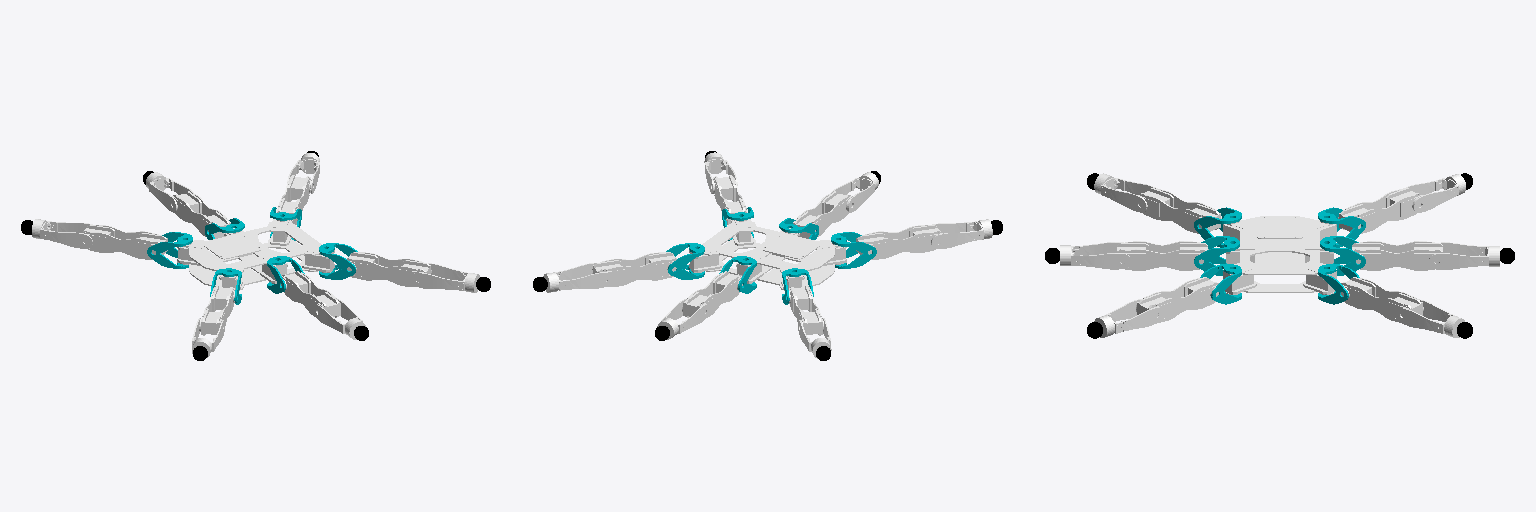
--- Facts derived from the render (not from the file) ---
The picture shows the robot from 3 angles, left to right: view 1: azimuth 30°, elevation 25°; view 2: azimuth 150°, elevation 25°; view 3: azimuth 270°, elevation 25°; orthographic projection.
Model corin with 25 links and 24 joints (18 revolute, 6 fixed), rooted at body, posed all joints at 0.
Visible links, largest first — view 1: body, rf_upperleg, lr_upperleg, rm_upperleg, lm_upperleg, rf_lowerleg, lr_lowerleg, rr_upperleg, lf_upperleg, lr_hipassembly, rf_hipassembly, lm_lowerleg (+3 smaller); view 2: body, lf_upperleg, rr_upperleg, lm_upperleg, rm_upperleg, lf_lowerleg, rr_lowerleg, lr_upperleg, rf_upperleg, rr_hipassembly, rm_lowerleg, lf_hipassembly (+3 smaller); view 3: body, rm_upperleg, lm_upperleg, rf_upperleg, lf_upperleg, lr_upperleg, rr_upperleg, lm_lowerleg, rm_lowerleg, lf_lowerleg, rf_lowerleg, rr_lowerleg (+7 smaller).
Boxes of the visible links, x1,y1,x2,y2 form: body: (177, 219, 334, 290); rf_upperleg: (347, 252, 431, 286); lr_upperleg: (82, 225, 167, 259); rm_upperleg: (281, 271, 340, 317); lm_upperleg: (172, 191, 230, 238); rf_lowerleg: (411, 263, 479, 292); lr_lowerleg: (32, 219, 92, 248); rr_upperleg: (199, 285, 234, 335); lf_upperleg: (276, 175, 311, 224); lr_hipassembly: (147, 232, 192, 268); rf_hipassembly: (319, 243, 357, 279); lm_lowerleg: (146, 172, 194, 212); body: (689, 219, 846, 290); lf_upperleg: (592, 252, 676, 286); rr_upperleg: (856, 225, 942, 259); lm_upperleg: (682, 271, 742, 317); rm_upperleg: (793, 191, 852, 238); lf_lowerleg: (543, 263, 612, 292); rr_lowerleg: (931, 219, 992, 248); lr_upperleg: (789, 285, 823, 335); rf_upperleg: (713, 175, 747, 224); rr_hipassembly: (831, 232, 876, 268); rm_lowerleg: (832, 172, 878, 212); lf_hipassembly: (666, 243, 704, 279); body: (1223, 216, 1336, 294); rm_upperleg: (1116, 241, 1208, 270); lm_upperleg: (1352, 241, 1442, 270); rf_upperleg: (1136, 277, 1218, 322); lf_upperleg: (1341, 277, 1423, 322); lr_upperleg: (1338, 188, 1422, 233); rr_upperleg: (1138, 188, 1221, 233); lm_lowerleg: (1429, 242, 1499, 269); rm_lowerleg: (1060, 242, 1130, 269); lf_lowerleg: (1396, 299, 1464, 337); rf_lowerleg: (1094, 299, 1163, 337); rr_lowerleg: (1094, 173, 1157, 212).
Bounding box of the posed robot: 0.704 × 0.9 × 0.068 m (x, y, z).
19 mesh visuals loaded from 4 distinct referenced files (3 binary STL, 1 OBJ).

The robot description file, URDF, robot "corin":
<?xml version="1.0"?>
<robot xmlns:xacro="http://www.ros.org/wiki/xacro" name="corin">

	<!-- START OF BODY SECTION!!!!-->
	<link name="body">
		<inertial>
			<origin xyz="0.0 0.0 0.0"/>
			<mass value="1.58"/>
			<inertia ixx="0.00491" iyy="0.007610" izz="0.01123"
					 ixy="0.0" ixz="0.0" iyz="0.0"/> <!-- values above given to 3 sf, 10 sf values available in common.xacro -->
		</inertial>
		<visual>
			<geometry>
				<mesh filename="./meshes/Body2.obj" scale="1 1 1"/> <!--these used to be referenced via ros package, i gave the full file name and moved the files to the drake ws to avoid ROS issues while i figure all this out. Consider coming back and using ROS later to tidy this up -->
			</geometry>
			<material name="white">
    			<color rgba="1.0 1.0 1.0 1.0"/>
 			</material> 
		</visual>
		<collision>
			<geometry>
				<mesh filename="./meshes/Body_collision2.obj" scale="1 1 1"/>
			</geometry>
			<material name="colli">
    			<color rgba="1 0.424 0.039 0.7"/>
			</material>
		</collision>
	</link>
	<!--END OF BODY SECTION!!!! -->



	<!--START OF LEFT FRONT LEG SECTION!!!!-->
	<!-- Joints -->
	<!-- Coxa joint -->
	<joint name="lf_q1_joint" type="revolute">
		<origin xyz="0.115 0.09 0" rpy="0 0 0.873"/>
		<parent link="body"/>
		<child  link="lf_hipassembly"/>
		<axis xyz="0 0 1"/>
		
		<limit effort="2.85" velocity="5.23" lower="-1.00" upper="1.00"/>
		<dynamics damping="0.15" friction="0" />
		<!-- <safety_controller k_position="100" k_velocity="100"
						   soft_lower_limit="${-7*PI/18}" soft_upper_limit="${5*PI/36}" /> -->
	</joint>
	<!-- Upper leg joint -->
	<joint name="lf_q2_joint" type="revolute">
		<origin xyz="0.06 0 0" rpy="1.571 0 0"/>
		<parent link="lf_hipassembly"/>
		<child  link="lf_upperleg"/>
		<axis xyz="0 0 1"/>
		<limit effort="2.85" velocity="5.23" lower="-2.22" upper="2.22"/>
		<dynamics damping="0.15" friction="0" />
		<!-- <safety_controller k_position="100" k_velocity="100"
						   soft_lower_limit="${-(1+reflect_front)*5*PI/36-(1-reflect_front)*7*PI/36}"
						   soft_upper_limit="${(1-reflect_front)*5*PI/36+(1+reflect_front)*7*PI/36}" /> -->
	</joint>
	<!-- Lower leg joint -->
	<joint name="lf_q3_joint" type="revolute">
		<origin xyz="0.15 0 0" rpy="0 0 0"/>
		<parent link="lf_upperleg"/>
		<child  link="lf_lowerleg"/>
		<axis xyz="0 0 1"/>
		<limit effort="2.85" velocity="5.23" lower="-2.79" upper="2.79"/>
		<dynamics damping="0.15" friction="0" />
		<!-- <safety_controller k_position="100" k_velocity="100"
						   soft_lower_limit="${-(1+reflect_front)*7*PI/18+(1-reflect_front)*PI/18}"
						   soft_upper_limit="${(1-reflect_front)*7*PI/18-(1+reflect_front)*PI/18}" /> -->

	</joint>
	<!-- Foot joint -->
	<joint name="lf_foot_joint" type="fixed">
		<origin xyz="0.134 0 0" rpy="0 0 0"/>
		<parent link="lf_lowerleg"/>
		<child  link="LF_FOOT"/>
	</joint>


	<!-- Links -->
	<!-- Hip assembly link -->
	<link name="lf_hipassembly">
		<visual>
			<origin rpy="0 0 0" xyz="0 0 0"/>
		      <geometry>
		        <mesh filename="./meshes/Coxa.STL" scale="1 1 1"/>
		      </geometry>
	      	<material name="2-turquoise">
    			<color rgba="0 0.807 0.850 1.0" />
  			</material>
	    </visual>

	    <collision>
	    	<origin rpy="0 0 0" xyz="0 0 0"/>
		    <geometry>
		      <mesh filename="./meshes/Coxa_collision2.obj" scale="1 1 1"/>
		    </geometry>
	      	<material name="black">
    			<color rgba="0.0 0.0 0.0 1.0"/>
  			</material>
	    </collision>

	    <inertial>
	    	<origin xyz="0.02471 0 0"/>
	      	<mass value="0.0406"/>
	      	<inertia ixx="0.000038" ixy="0.0" ixz="0.0" iyy="0.000038" iyz="0.0" izz="0.000040"/>
	    </inertial>
	  </link>

	<!-- Upper leg link -->
	<link name="lf_upperleg">
		<visual>
	      	<geometry>
	        	<mesh filename="./meshes/Femur.STL" scale="1 1 1"/>
	      	</geometry>
	      	<origin xyz="0 0 0" rpy="0 0 0"/>
	      	<material name="white">
    			<color rgba="1.0 1.0 1.0 1.0"/>
 			</material>
	    </visual>

	    <collision>
	      	<geometry>
	        	<box size= "0.15 0.04 0.04"/>
	      	</geometry>
	      	<origin xyz="0.075 0 0" rpy="0 0 0"/>
	      	<material name="colli">
    			<color rgba="1 0.424 0.039 0.7"/>
			</material>
	    </collision>

	    <inertial>
	      	<mass value="0.35"/>
	      	<inertia ixx="0.000014" ixy="0" ixz="0" iyy="0.000047" iyz="0" izz="0.000051"/>
	      	<origin xyz="0.075 0 0"/>
	    </inertial>
	</link>

	<!-- Lower leg link -->
	<link name="lf_lowerleg">
		<visual>
	      	<geometry>
	      		<mesh filename="./meshes/Tibia.STL" scale="1 1 1"/>
	      	</geometry>
	      	<origin xyz="0 0 0" rpy="1.571 0 0"/>
	      	<material name="white">
    			<color rgba="1.0 1.0 1.0 1.0"/>
 			</material>
	    </visual>

	    <collision>
	      	<geometry>
						<mesh filename="./meshes/Tibia_collision2.obj" scale="1 1 1"/>
	        	<!-- <box size= "${tibia_cl} ${tibia_d} ${tibia_w}"/> -->
	      	</geometry>
	      	<origin xyz="0.0 0 0" rpy="1.571 0 0"/>
	      	<material name="colli">
    			<color rgba="1 0.424 0.039 0.7"/>
			</material>
	    </collision>

	    <inertial>
	      	<mass value="0.076"/>
	      	<inertia ixx="0.000025" ixy="0" ixz="0" iyy="0.000105" iyz="0" izz="0.000117"/>
	      	<origin xyz="0.0887 0 0"/>
	    </inertial>
	</link>

	<!-- Foot link -->
	<link name="LF_FOOT">
		<visual>
	      	<geometry>
	        	<sphere radius="0.016"/>
	      	</geometry>
	      	<origin xyz="0 0 0" rpy="0 0 0"/>
	      	<material name="black">
    			<color rgba="0.0 0.0 0.0 1.0"/>
			</material>
	    </visual>

	    <collision>
	      	<geometry>
	        	<sphere radius="0.016"/>
	      	</geometry>
	      	<origin xyz="0 0 0" rpy="0 0 0"/>
	      	<material name="colli">
    			<color rgba="1 0.424 0.039 0.7"/>
			</material>
	    </collision>

	    <inertial>
	      	<mass value="0.040"/>
	      	<inertia ixx="0.000004" ixy="0" ixz="0" iyy="0.000004" iyz="0" izz="0.000004" />
	      	<origin xyz="0 0 0"/>
	    </inertial>
	</link>
	<!--END OF LEFT FRONT LEG SECTION!!!!-->



	<!--START OF LEFT MIDDLE LEG SECTION!!!!-->
	<!-- Joints -->
	<!-- Coxa joint -->
	<joint name="lm_q1_joint" type="revolute">
		<origin xyz="0 0.09 0" rpy="0 0 1.571"/>
		<parent link="body"/>
		<child  link="lm_hipassembly"/>
		<axis xyz="0 0 1"/>
		
		<limit effort="2.85" velocity="5.23" lower="-0.84" upper="0.84"/>
		<dynamics damping="0.15" friction="0" />
		<!-- <safety_controller k_position="100" k_velocity="100"
						   soft_lower_limit="${-7*PI/18}" soft_upper_limit="${5*PI/36}" /> -->
	</joint>
	<!-- Upper leg joint -->
	<joint name="lm_q2_joint" type="revolute">
		<origin xyz="0.06 0 0" rpy="1.571 0 0"/>
		<parent link="lm_hipassembly"/>
		<child  link="lm_upperleg"/>
		<axis xyz="0 0 1"/>
		<limit effort="2.85" velocity="5.23" lower="-2.22" upper="2.22"/>
		<dynamics damping="0.15" friction="0" />
		<!-- <safety_controller k_position="100" k_velocity="100"
						   soft_lower_limit="${-(1+reflect_front)*5*PI/36-(1-reflect_front)*7*PI/36}"
						   soft_upper_limit="${(1-reflect_front)*5*PI/36+(1+reflect_front)*7*PI/36}" /> -->
	</joint>
	<!-- Lower leg joint -->
	<joint name="lm_q3_joint" type="revolute">
		<origin xyz="0.15 0 0" rpy="0 0 0"/>
		<parent link="lm_upperleg"/>
		<child  link="lm_lowerleg"/>
		<axis xyz="0 0 1"/>
		<limit effort="2.85" velocity="5.23" lower="-2.79" upper="2.79"/>
		<dynamics damping="0.15" friction="0" />
		<!-- <safety_controller k_position="100" k_velocity="100"
						   soft_lower_limit="${-(1+reflect_front)*7*PI/18+(1-reflect_front)*PI/18}"
						   soft_upper_limit="${(1-reflect_front)*7*PI/18-(1+reflect_front)*PI/18}" /> -->

	</joint>
	<!-- Foot joint -->
	<joint name="lm_foot_joint" type="fixed">
		<origin xyz="0.134 0 0" rpy="0 0 0"/>
		<parent link="lm_lowerleg"/>
		<child  link="LM_FOOT"/>
	</joint>


	<!-- Links -->
	<!-- Hip assembly link -->
	<link name="lm_hipassembly">
		<visual>
			<origin rpy="0 0 0" xyz="0 0 0"/>
		      <geometry>
		        <mesh filename="./meshes/Coxa.STL" scale="1 1 1"/>
		      </geometry>
	      	<material name="2-turquoise">
    			<color rgba="0 0.807 0.850 1.0" />
  			</material>
	    </visual>

	    <collision>
	    	<origin rpy="0 0 0" xyz="0 0 0"/>
		    <geometry>
		      <mesh filename="./meshes/Coxa_collision2.obj" scale="1 1 1"/>
		    </geometry>
	      	<material name="black">
    			<color rgba="0.0 0.0 0.0 1.0"/>
  			</material>
	    </collision>

	    <inertial>
	    	<origin xyz="0.02471 0 0"/>
	      	<mass value="0.0406"/>
	      	<inertia ixx="0.000038" ixy="0.0" ixz="0.0" iyy="0.000038" iyz="0.0" izz="0.000040"/>
	    </inertial>
	  </link>

	<!-- Upper leg link -->
	<link name="lm_upperleg">
		<visual>
	      	<geometry>
	        	<mesh filename="./meshes/Femur.STL" scale="1 1 1"/>
	      	</geometry>
	      	<origin xyz="0 0 0" rpy="0 0 0"/>
	      	<material name="white">
    			<color rgba="1.0 1.0 1.0 1.0"/>
 			</material>
	    </visual>

	    <collision>
	      	<geometry>
	        	<box size= "0.15 0.04 0.04"/>
	      	</geometry>
	      	<origin xyz="0.075 0 0" rpy="0 0 0"/>
	      	<material name="colli">
    			<color rgba="1 0.424 0.039 0.7"/>
			</material>
	    </collision>

	    <inertial>
	      	<mass value="0.35"/>
	      	<inertia ixx="0.000014" ixy="0" ixz="0" iyy="0.000047" iyz="0" izz="0.000051"/>
	      	<origin xyz="0.075 0 0"/>
	    </inertial>
	</link>

	<!-- Lower leg link -->
	<link name="lm_lowerleg">
		<visual>
	      	<geometry>
	      		<mesh filename="./meshes/Tibia.STL" scale="1 1 1"/>
	      	</geometry>
	      	<origin xyz="0 0 0" rpy="1.571 0 0"/>
	      	<material name="white">
    			<color rgba="1.0 1.0 1.0 1.0"/>
 			</material>
	    </visual>

	    <collision>
	      	<geometry>
						<mesh filename="./meshes/Tibia_collision2.obj" scale="1 1 1"/>
	        	<!-- <box size= "${tibia_cl} ${tibia_d} ${tibia_w}"/> -->
	      	</geometry>
	      	<origin xyz="0.0 0 0" rpy="1.571 0 0"/>
	      	<material name="colli">
    			<color rgba="1 0.424 0.039 0.7"/>
			</material>
	    </collision>

	    <inertial>
	      	<mass value="0.076"/>
	      	<inertia ixx="0.000025" ixy="0" ixz="0" iyy="0.000105" iyz="0" izz="0.000117"/>
	      	<origin xyz="0.0887 0 0"/>
	    </inertial>
	</link>

	<!-- Foot link -->
	<link name="LM_FOOT">
		<visual>
	      	<geometry>
	        	<sphere radius="0.016"/>
	      	</geometry>
	      	<origin xyz="0 0 0" rpy="0 0 0"/>
	      	<material name="black">
    			<color rgba="0.0 0.0 0.0 1.0"/>
			</material>
	    </visual>

	    <collision>
	      	<geometry>
	        	<sphere radius="0.016"/>
	      	</geometry>
	      	<origin xyz="0 0 0" rpy="0 0 0"/>
	      	<material name="colli">
    			<color rgba="1 0.424 0.039 0.7"/>
			</material>
	    </collision>

	    <inertial>
	      	<mass value="0.040"/>
	      	<inertia ixx="0.000004" ixy="0" ixz="0" iyy="0.000004" iyz="0" izz="0.000004" />
	      	<origin xyz="0 0 0"/>
	    </inertial>
	</link>
	<!--END OF LEFT MIDDLE LEG SECTION!!!!-->



	<!--START OF LEFT REAR LEG SECTION!!!!-->
	<!-- Joints -->
	<!-- Coxa joint -->
	<joint name="lr_q1_joint" type="revolute">
		<origin xyz="-0.115 0.09 0" rpy="0 0 2.269"/>
		<parent link="body"/>
		<child  link="lr_hipassembly"/>
		<axis xyz="0 0 1"/>
		
		<limit effort="2.85" velocity="5.23" lower="-1.00" upper="1.00"/>
		<dynamics damping="0.15" friction="0" />
		<!-- <safety_controller k_position="100" k_velocity="100"
						   soft_lower_limit="${-7*PI/18}" soft_upper_limit="${5*PI/36}" /> -->
	</joint>
	<!-- Upper leg joint -->
	<joint name="lr_q2_joint" type="revolute">
		<origin xyz="0.06 0 0" rpy="1.571 0 0"/>
		<parent link="lr_hipassembly"/>
		<child  link="lr_upperleg"/>
		<axis xyz="0 0 1"/>
		<limit effort="2.85" velocity="5.23" lower="-2.22" upper="2.22"/>
		<dynamics damping="0.15" friction="0" />
		<!-- <safety_controller k_position="100" k_velocity="100"
						   soft_lower_limit="${-(1+reflect_front)*5*PI/36-(1-reflect_front)*7*PI/36}"
						   soft_upper_limit="${(1-reflect_front)*5*PI/36+(1+reflect_front)*7*PI/36}" /> -->
	</joint>
	<!-- Lower leg joint -->
	<joint name="lr_q3_joint" type="revolute">
		<origin xyz="0.15 0 0" rpy="0 0 0"/>
		<parent link="lr_upperleg"/>
		<child  link="lr_lowerleg"/>
		<axis xyz="0 0 1"/>
		<limit effort="2.85" velocity="5.23" lower="-2.79" upper="2.79"/>
		<dynamics damping="0.15" friction="0" />
		<!-- <safety_controller k_position="100" k_velocity="100"
						   soft_lower_limit="${-(1+reflect_front)*7*PI/18+(1-reflect_front)*PI/18}"
						   soft_upper_limit="${(1-reflect_front)*7*PI/18-(1+reflect_front)*PI/18}" /> -->

	</joint>
	<!-- Foot joint -->
	<joint name="lr_foot_joint" type="fixed">
		<origin xyz="0.134 0 0" rpy="0 0 0"/>
		<parent link="lr_lowerleg"/>
		<child  link="LH_FOOT"/>
	</joint>


	<!-- Links -->
	<!-- Hip assembly link -->
	<link name="lr_hipassembly">
		<visual>
			<origin rpy="0 0 0" xyz="0 0 0"/>
		      <geometry>
		        <mesh filename="./meshes/Coxa.STL" scale="1 1 1"/>
		      </geometry>
	      	<material name="2-turquoise">
    			<color rgba="0 0.807 0.850 1.0" />
  			</material>
	    </visual>

	    <collision>
	    	<origin rpy="0 0 0" xyz="0 0 0"/>
		    <geometry>
		      <mesh filename="./meshes/Coxa_collision2.obj" scale="1 1 1"/>
		    </geometry>
	      	<material name="black">
    			<color rgba="0.0 0.0 0.0 1.0"/>
  			</material>
	    </collision>

	    <inertial>
	    	<origin xyz="0.02471 0 0"/>
	      	<mass value="0.0406"/>
	      	<inertia ixx="0.000038" ixy="0.0" ixz="0.0" iyy="0.000038" iyz="0.0" izz="0.000040"/>
	    </inertial>
	  </link>

	<!-- Upper leg link -->
	<link name="lr_upperleg">
		<visual>
	      	<geometry>
	        	<mesh filename="./meshes/Femur.STL" scale="1 1 1"/>
	      	</geometry>
	      	<origin xyz="0 0 0" rpy="0 0 0"/>
	      	<material name="white">
    			<color rgba="1.0 1.0 1.0 1.0"/>
 			</material>
	    </visual>

	    <collision>
	      	<geometry>
	        	<box size= "0.15 0.04 0.04"/>
	      	</geometry>
	      	<origin xyz="0.075 0 0" rpy="0 0 0"/>
	      	<material name="colli">
    			<color rgba="1 0.424 0.039 0.7"/>
			</material>
	    </collision>

	    <inertial>
	      	<mass value="0.35"/>
	      	<inertia ixx="0.000014" ixy="0" ixz="0" iyy="0.000047" iyz="0" izz="0.000051"/>
	      	<origin xyz="0.075 0 0"/>
	    </inertial>
	</link>

	<!-- Lower leg link -->
	<link name="lr_lowerleg">
		<visual>
	      	<geometry>
	      		<mesh filename="./meshes/Tibia.STL" scale="1 1 1"/>
	      	</geometry>
	      	<origin xyz="0 0 0" rpy="1.571 0 0"/>
	      	<material name="white">
    			<color rgba="1.0 1.0 1.0 1.0"/>
 			</material>
	    </visual>

	    <collision>
	      	<geometry>
						<mesh filename="./meshes/Tibia_collision2.obj" scale="1 1 1"/>
	        	<!-- <box size= "${tibia_cl} ${tibia_d} ${tibia_w}"/> -->
	      	</geometry>
	      	<origin xyz="0.0 0 0" rpy="1.571 0 0"/>
	      	<material name="colli">
    			<color rgba="1 0.424 0.039 0.7"/>
			</material>
	    </collision>

	    <inertial>
	      	<mass value="0.076"/>
	      	<inertia ixx="0.000025" ixy="0" ixz="0" iyy="0.000105" iyz="0" izz="0.000117"/>
	      	<origin xyz="0.0887 0 0"/>
	    </inertial>
	</link>

	<!-- Foot link -->
	<link name="LH_FOOT">
		<visual>
	      	<geometry>
	        	<sphere radius="0.016"/>
	      	</geometry>
	      	<origin xyz="0 0 0" rpy="0 0 0"/>
	      	<material name="black">
    			<color rgba="0.0 0.0 0.0 1.0"/>
			</material>
	    </visual>

	    <collision>
	      	<geometry>
	        	<sphere radius="0.016"/>
	      	</geometry>
	      	<origin xyz="0 0 0" rpy="0 0 0"/>
	      	<material name="colli">
    			<color rgba="1 0.424 0.039 0.7"/>
			</material>
	    </collision>

	    <inertial>
	      	<mass value="0.040"/>
	      	<inertia ixx="0.000004" ixy="0" ixz="0" iyy="0.000004" iyz="0" izz="0.000004" />
	      	<origin xyz="0 0 0"/>
	    </inertial>
	</link>
	<!--END OF LEFT REAR LEG SECTION!!!!-->




	<!--START OF RIGHT FRONT LEG SECTION!!!!-->
	<!-- Joints -->
	<!-- Coxa joint -->
	<joint name="rf_q1_joint" type="revolute">
		<origin xyz="0.115 -0.09 0" rpy="0 0 -0.873"/>
		<parent link="body"/>
		<child  link="rf_hipassembly"/>
		<axis xyz="0 0 1"/>
		
		<limit effort="2.85" velocity="5.23" lower="-1.00" upper="1.00"/>
		<dynamics damping="0.15" friction="0" />
		<!-- <safety_controller k_position="100" k_velocity="100"
						   soft_lower_limit="${-7*PI/18}" soft_upper_limit="${5*PI/36}" /> -->
	</joint>
	<!-- Upper leg joint -->
	<joint name="rf_q2_joint" type="revolute">
		<origin xyz="0.06 0 0" rpy="1.571 0 0"/>
		<parent link="rf_hipassembly"/>
		<child  link="rf_upperleg"/>
		<axis xyz="0 0 1"/>
		<limit effort="2.85" velocity="5.23" lower="-2.22" upper="2.22"/>
		<dynamics damping="0.15" friction="0" />
		<!-- <safety_controller k_position="100" k_velocity="100"
						   soft_lower_limit="${-(1+reflect_front)*5*PI/36-(1-reflect_front)*7*PI/36}"
						   soft_upper_limit="${(1-reflect_front)*5*PI/36+(1+reflect_front)*7*PI/36}" /> -->
	</joint>
	<!-- Lower leg joint -->
	<joint name="rf_q3_joint" type="revolute">
		<origin xyz="0.15 0 0" rpy="0 0 0"/>
		<parent link="rf_upperleg"/>
		<child  link="rf_lowerleg"/>
		<axis xyz="0 0 1"/>
		<limit effort="2.85" velocity="5.23" lower="-2.79" upper="2.79"/>
		<dynamics damping="0.15" friction="0" />
		<!-- <safety_controller k_position="100" k_velocity="100"
						   soft_lower_limit="${-(1+reflect_front)*7*PI/18+(1-reflect_front)*PI/18}"
						   soft_upper_limit="${(1-reflect_front)*7*PI/18-(1+reflect_front)*PI/18}" /> -->

	</joint>
	<!-- Foot joint -->
	<joint name="rf_foot_joint" type="fixed">
		<origin xyz="0.134 0 0" rpy="0 0 0"/>
		<parent link="rf_lowerleg"/>
		<child  link="RF_FOOT"/>
	</joint>


	<!-- Links -->
	<!-- Hip assembly link -->
	<link name="rf_hipassembly">
		<visual>
			<origin rpy="0 0 0" xyz="0 0 0"/>
		      <geometry>
		        <mesh filename="./meshes/Coxa.STL" scale="1 1 1"/>
		      </geometry>
	      	<material name="2-turquoise">
    			<color rgba="0 0.807 0.850 1.0" />
  			</material>
	    </visual>

	    <collision>
	    	<origin rpy="0 0 0" xyz="0 0 0"/>
		    <geometry>
		      <mesh filename="./meshes/Coxa_collision2.obj" scale="1 1 1"/>
		    </geometry>
	      	<material name="black">
    			<color rgba="0.0 0.0 0.0 1.0"/>
  			</material>
	    </collision>

	    <inertial>
	    	<origin xyz="0.02471 0 0"/>
	      	<mass value="0.0406"/>
	      	<inertia ixx="0.000038" ixy="0.0" ixz="0.0" iyy="0.000038" iyz="0.0" izz="0.000040"/>
	    </inertial>
	  </link>

	<!-- Upper leg link -->
	<link name="rf_upperleg">
		<visual>
	      	<geometry>
	        	<mesh filename="./meshes/Femur.STL" scale="1 1 1"/>
	      	</geometry>
	      	<origin xyz="0 0 0" rpy="0 0 0"/>
	      	<material name="white">
    			<color rgba="1.0 1.0 1.0 1.0"/>
 			</material>
	    </visual>

	    <collision>
	      	<geometry>
	        	<box size= "0.15 0.04 0.04"/>
	      	</geometry>
	      	<origin xyz="0.075 0 0" rpy="0 0 0"/>
	      	<material name="colli">
    			<color rgba="1 0.424 0.039 0.7"/>
			</material>
	    </collision>

	    <inertial>
	      	<mass value="0.35"/>
	      	<inertia ixx="0.000014" ixy="0" ixz="0" iyy="0.000047" iyz="0" izz="0.000051"/>
	      	<origin xyz="0.075 0 0"/>
	    </inertial>
	</link>

	<!-- Lower leg link -->
	<link name="rf_lowerleg">
		<visual>
	      	<geometry>
	      		<mesh filename="./meshes/Tibia.STL" scale="1 1 1"/>
	      	</geometry>
	      	<origin xyz="0 0 0" rpy="1.571 0 0"/>
	      	<material name="white">
    			<color rgba="1.0 1.0 1.0 1.0"/>
 			</material>
	    </visual>

	    <collision>
	      	<geometry>
						<mesh filename="./meshes/Tibia_collision2.obj" scale="1 1 1"/>
	        	<!-- <box size= "${tibia_cl} ${tibia_d} ${tibia_w}"/> -->
	      	</geometry>
	      	<origin xyz="0.0 0 0" rpy="1.571 0 0"/>
	      	<material name="colli">
    			<color rgba="1 0.424 0.039 0.7"/>
			</material>
	    </collision>

	    <inertial>
	      	<mass value="0.076"/>
	      	<inertia ixx="0.000025" ixy="0" ixz="0" iyy="0.000105" iyz="0" izz="0.000117"/>
	      	<origin xyz="0.0887 0 0"/>
	    </inertial>
	</link>

	<!-- Foot link -->
	<link name="RF_FOOT">
		<visual>
	      	<geometry>
	        	<sphere radius="0.016"/>
	      	</geometry>
	      	<origin xyz="0 0 0" rpy="0 0 0"/>
	      	<material name="black">
    			<color rgba="0.0 0.0 0.0 1.0"/>
			</material>
	    </visual>

	    <collision>
	      	<geometry>
	        	<sphere radius="0.016"/>
	      	</geometry>
	      	<origin xyz="0 0 0" rpy="0 0 0"/>
	      	<material name="colli">
    			<color rgba="1 0.424 0.039 0.7"/>
			</material>
	    </collision>

	    <inertial>
	      	<mass value="0.040"/>
	      	<inertia ixx="0.000004" ixy="0" ixz="0" iyy="0.000004" iyz="0" izz="0.000004" />
	      	<origin xyz="0 0 0"/>
	    </inertial>
	</link>
	<!--END OF RIGHT FRONT LEG SECTION!!!!-->


	<!--START OF RIGHT MIDDLE LEG SECTION!!!!-->
	<!-- Joints -->
	<!-- Coxa joint -->
	<joint name="rm_q1_joint" type="revolute">
		<origin xyz="0 -0.09 0" rpy="0 0 -1.571"/> <!--PUT ORIGIN OF LEG HERE-->
		<parent link="body"/>
		<child  link="rm_hipassembly"/>
		<axis xyz="0 0 1"/>
		
		<limit effort="2.85" velocity="5.23" lower="-0.84" upper="0.84"/>
		<dynamics damping="0.15" friction="0" />
		<!-- <safety_controller k_position="100" k_velocity="100"
						   soft_lower_limit="${-7*PI/18}" soft_upper_limit="${5*PI/36}" /> -->
	</joint>
	<!-- Upper leg joint -->
	<joint name="rm_q2_joint" type="revolute">
		<origin xyz="0.06 0 0" rpy="1.571 0 0"/>
		<parent link="rm_hipassembly"/>
		<child  link="rm_upperleg"/>
		<axis xyz="0 0 1"/>
		<limit effort="2.85" velocity="5.23" lower="-2.22" upper="2.22"/>
		<dynamics damping="0.15" friction="0" />
		<!-- <safety_controller k_position="100" k_velocity="100"
						   soft_lower_limit="${-(1+reflect_front)*5*PI/36-(1-reflect_front)*7*PI/36}"
						   soft_upper_limit="${(1-reflect_front)*5*PI/36+(1+reflect_front)*7*PI/36}" /> -->
	</joint>
	<!-- Lower leg joint -->
	<joint name="rm_q3_joint" type="revolute">
		<origin xyz="0.15 0 0" rpy="0 0 0"/>
		<parent link="rm_upperleg"/>
		<child  link="rm_lowerleg"/>
		<axis xyz="0 0 1"/>
		<limit effort="2.85" velocity="5.23" lower="-2.79" upper="2.79"/>
		<dynamics damping="0.15" friction="0" />
		<!-- <safety_controller k_position="100" k_velocity="100"
						   soft_lower_limit="${-(1+reflect_front)*7*PI/18+(1-reflect_front)*PI/18}"
						   soft_upper_limit="${(1-reflect_front)*7*PI/18-(1+reflect_front)*PI/18}" /> -->

	</joint>
	<!-- Foot joint -->
	<joint name="rm_foot_joint" type="fixed">
		<origin xyz="0.134 0 0" rpy="0 0 0"/>
		<parent link="rm_lowerleg"/>
		<child  link="RM_FOOT"/>
	</joint>


	<!-- Links -->
	<!-- Hip assembly link -->
	<link name="rm_hipassembly">
		<visual>
			<origin rpy="0 0 0" xyz="0 0 0"/>
		      <geometry>
		        <mesh filename="./meshes/Coxa.STL" scale="1 1 1"/>
		      </geometry>
	      	<material name="2-turquoise">
    			<color rgba="0 0.807 0.850 1.0" />
  			</material>
	    </visual>

	    <collision>
	    	<origin rpy="0 0 0" xyz="0 0 0"/>
		    <geometry>
		      <mesh filename="./meshes/Coxa_collision2.obj" scale="1 1 1"/>
		    </geometry>
	      	<material name="black">
    			<color rgba="0.0 0.0 0.0 1.0"/>
  			</material>
	    </collision>

	    <inertial>
	    	<origin xyz="0.02471 0 0"/>
	      	<mass value="0.0406"/>
	      	<inertia ixx="0.000038" ixy="0.0" ixz="0.0" iyy="0.000038" iyz="0.0" izz="0.000040"/>
	    </inertial>
	  </link>

	<!-- Upper leg link -->
	<link name="rm_upperleg">
		<visual>
	      	<geometry>
	        	<mesh filename="./meshes/Femur.STL" scale="1 1 1"/>
	      	</geometry>
	      	<origin xyz="0 0 0" rpy="0 0 0"/>
	      	<material name="white">
    			<color rgba="1.0 1.0 1.0 1.0"/>
 			</material>
	    </visual>

	    <collision>
	      	<geometry>
	        	<box size= "0.15 0.04 0.04"/>
	      	</geometry>
	      	<origin xyz="0.075 0 0" rpy="0 0 0"/>
	      	<material name="colli">
    			<color rgba="1 0.424 0.039 0.7"/>
			</material>
	    </collision>

	    <inertial>
	      	<mass value="0.35"/>
	      	<inertia ixx="0.000014" ixy="0" ixz="0" iyy="0.000047" iyz="0" izz="0.000051"/>
	      	<origin xyz="0.075 0 0"/>
	    </inertial>
	</link>

	<!-- Lower leg link -->
	<link name="rm_lowerleg">
		<visual>
	      	<geometry>
	      		<mesh filename="./meshes/Tibia.STL" scale="1 1 1"/>
	      	</geometry>
	      	<origin xyz="0 0 0" rpy="1.571 0 0"/>
	      	<material name="white">
    			<color rgba="1.0 1.0 1.0 1.0"/>
 			</material>
	    </visual>

	    <collision>
	      	<geometry>
						<mesh filename="./meshes/Tibia_collision2.obj" scale="1 1 1"/>
	        	<!-- <box size= "${tibia_cl} ${tibia_d} ${tibia_w}"/> -->
	      	</geometry>
	      	<origin xyz="0.0 0 0" rpy="1.571 0 0"/>
	      	<material name="colli">
    			<color rgba="1 0.424 0.039 0.7"/>
			</material>
	    </collision>

	    <inertial>
	      	<mass value="0.076"/>
	      	<inertia ixx="0.000025" ixy="0" ixz="0" iyy="0.000105" iyz="0" izz="0.000117"/>
	      	<origin xyz="0.0887 0 0"/>
	    </inertial>
	</link>

	<!-- Foot link -->
	<link name="RM_FOOT">
		<visual>
	      	<geometry>
	        	<sphere radius="0.016"/>
	      	</geometry>
	      	<origin xyz="0 0 0" rpy="0 0 0"/>
	      	<material name="black">
    			<color rgba="0.0 0.0 0.0 1.0"/>
			</material>
	    </visual>

	    <collision>
	      	<geometry>
	        	<sphere radius="0.016"/>
	      	</geometry>
	      	<origin xyz="0 0 0" rpy="0 0 0"/>
	      	<material name="colli">
    			<color rgba="1 0.424 0.039 0.7"/>
			</material>
	    </collision>

	    <inertial>
	      	<mass value="0.040"/>
	      	<inertia ixx="0.000004" ixy="0" ixz="0" iyy="0.000004" iyz="0" izz="0.000004" />
	      	<origin xyz="0 0 0"/>
	    </inertial>
	</link>
	<!--END OF LEFT FRONT LEG SECTION!!!!-->


	<!--START OF RIGHT REAR LEG SECTION!!!!-->
	<!-- Joints -->
	<!-- Coxa joint -->
	<joint name="rr_q1_joint" type="revolute">
		<origin xyz="-0.115 -0.09 0" rpy="0 0 -2.269"/>
		<parent link="body"/>
		<child  link="rr_hipassembly"/>
		<axis xyz="0 0 1"/>
		
		<limit effort="2.85" velocity="5.23" lower="-1.00" upper="1.00"/>
		<dynamics damping="0.15" friction="0" />
		<!-- <safety_controller k_position="100" k_velocity="100"
						   soft_lower_limit="${-7*PI/18}" soft_upper_limit="${5*PI/36}" /> -->
	</joint>
	<!-- Upper leg joint -->
	<joint name="rr_q2_joint" type="revolute">
		<origin xyz="0.06 0 0" rpy="1.571 0 0"/>
		<parent link="rr_hipassembly"/>
		<child  link="rr_upperleg"/>
		<axis xyz="0 0 1"/>
		<limit effort="2.85" velocity="5.23" lower="-2.22" upper="2.22"/>
		<dynamics damping="0.15" friction="0" />
		<!-- <safety_controller k_position="100" k_velocity="100"
						   soft_lower_limit="${-(1+reflect_front)*5*PI/36-(1-reflect_front)*7*PI/36}"
						   soft_upper_limit="${(1-reflect_front)*5*PI/36+(1+reflect_front)*7*PI/36}" /> -->
	</joint>
	<!-- Lower leg joint -->
	<joint name="rr_q3_joint" type="revolute">
		<origin xyz="0.15 0 0" rpy="0 0 0"/>
		<parent link="rr_upperleg"/>
		<child  link="rr_lowerleg"/>
		<axis xyz="0 0 1"/>
		<limit effort="2.85" velocity="5.23" lower="-2.79" upper="2.79"/>
		<dynamics damping="0.15" friction="0" />
		<!-- <safety_controller k_position="100" k_velocity="100"
						   soft_lower_limit="${-(1+reflect_front)*7*PI/18+(1-reflect_front)*PI/18}"
						   soft_upper_limit="${(1-reflect_front)*7*PI/18-(1+reflect_front)*PI/18}" /> -->

	</joint>
	<!-- Foot joint -->
	<joint name="rr_foot_joint" type="fixed">
		<origin xyz="0.134 0 0" rpy="0 0 0"/>
		<parent link="rr_lowerleg"/>
		<child  link="RH_FOOT"/>
	</joint>


	<!-- Links -->
	<!-- Hip assembly link -->
	<link name="rr_hipassembly">
		<visual>
			<origin rpy="0 0 0" xyz="0 0 0"/>
		      <geometry>
		        <mesh filename="./meshes/Coxa.STL" scale="1 1 1"/>
		      </geometry>
	      	<material name="turquoise">
    			<color rgba="0 0.807 0.850 1.0" />
  			</material>
	    </visual>

	    <collision>
	    	<origin rpy="0 0 0" xyz="0 0 0"/>
		    <geometry>
		      <mesh filename="./meshes/Coxa_collision2.obj" scale="1 1 1"/>
		    </geometry>
	      	<material name="black">
    			<color rgba="0.0 0.0 0.0 1.0"/>
  			</material>
	    </collision>

	    <inertial>
	    	<origin xyz="0.02471 0 0"/>
	      	<mass value="0.0406"/>
	      	<inertia ixx="0.000038" ixy="0.0" ixz="0.0" iyy="0.000038" iyz="0.0" izz="0.000040"/>
	    </inertial>
	  </link>

	<!-- Upper leg link -->
	<link name="rr_upperleg">
		<visual>
	      	<geometry>
	        	<mesh filename="./meshes/Femur.STL" scale="1 1 1"/>
	      	</geometry>
	      	<origin xyz="0 0 0" rpy="0 0 0"/>
	      	<material name="white">
    			<color rgba="1.0 1.0 1.0 1.0"/>
 			</material>
	    </visual>

	    <collision>
	      	<geometry>
	        	<box size= "0.15 0.04 0.04"/>
	      	</geometry>
	      	<origin xyz="0.075 0 0" rpy="0 0 0"/>
	      	<material name="colli">
    			<color rgba="1 0.424 0.039 0.7"/>
			</material>
	    </collision>

	    <inertial>
	      	<mass value="0.35"/>
	      	<inertia ixx="0.000014" ixy="0" ixz="0" iyy="0.000047" iyz="0" izz="0.000051"/>
	      	<origin xyz="0.075 0 0"/>
	    </inertial>
	</link>

	<!-- Lower leg link -->
	<link name="rr_lowerleg">
		<visual>
	      	<geometry>
	      		<mesh filename="./meshes/Tibia.STL" scale="1 1 1"/>
	      	</geometry>
	      	<origin xyz="0 0 0" rpy="1.571 0 0"/>
	      	<material name="white">
    			<color rgba="1.0 1.0 1.0 1.0"/>
 			</material>
	    </visual>

	    <collision>
	      	<geometry>
						<mesh filename="./meshes/Tibia_collision2.obj" scale="1 1 1"/>
	        	<!-- <box size= "${tibia_cl} ${tibia_d} ${tibia_w}"/> -->
	      	</geometry>
	      	<origin xyz="0.0 0 0" rpy="1.571 0 0"/>
	      	<material name="colli">
    			<color rgba="1 0.424 0.039 0.7"/>
			</material>
	    </collision>

	    <inertial>
	      	<mass value="0.076"/>
	      	<inertia ixx="0.000025" ixy="0" ixz="0" iyy="0.000105" iyz="0" izz="0.000117"/>
	      	<origin xyz="0.0887 0 0"/>
	    </inertial>
	</link>

	<!-- Foot link -->
	<link name="RH_FOOT">
		<visual>
	      	<geometry>
	        	<sphere radius="0.016"/>
	      	</geometry>
	      	<origin xyz="0 0 0" rpy="0 0 0"/>
	      	<material name="black">
    			<color rgba="0.0 0.0 0.0 1.0"/>
			</material>
	    </visual>

	    <collision>
	      	<geometry>
	        	<sphere radius="0.016"/>
	      	</geometry>
	      	<origin xyz="0 0 0" rpy="0 0 0"/>
	      	<material name="colli">
    			<color rgba="1 0.424 0.039 0.7"/>
			</material>
	    </collision>

	    <inertial>
	      	<mass value="0.040"/>
	      	<inertia ixx="0.000004" ixy="0" ixz="0" iyy="0.000004" iyz="0" izz="0.000004" />
	      	<origin xyz="0 0 0"/>
	    </inertial>
	</link>
	<!--END OF RIGHT REAR LEG SECTION!!!!-->

	<!-- Sensors 
	<xacro:IMU
		parent="body"
		imu_name="base_imu"
		imu_topic="base/data"
		imu_service="trunk/service"
		update_rate="100">
		<origin xyz="0.0 0.0 0.022" rpy="0 0 0"/>
	</xacro:IMU>
	
	<xacro:LIDAR
		parent="body"
		lidar_name="trunk_lidar"
		lidar_topic="lidar/data"
		update_rate="100">
		<origin xyz="0.06 0.0 0.04" rpy="0 0 1.571"/>
	</xacro:LIDAR> -->

<!-- Joint Transmissions: Tells Drake that these are actuated-->

	<!-- START OF LEFT FRONT LEG TRANSMISSION -->
    <!-- Hip assembly -->
	<transmission name="lf_q1_trans">
		<type>transmission_interface/SimpleTransmission</type>
		<joint name="lf_q1_joint">
			<hardwareInterface>hardware_interface/EffortJointInterface</hardwareInterface>
		</joint>
		<actuator name="lf_q1_motor">
			<hardwareInterface>EffortJointInterface</hardwareInterface>
			<mechanicalReduction>200</mechanicalReduction>
		</actuator>
	</transmission>
	<!-- Upper leg -->
	<transmission name="lf_q2_trans">
		<type>transmission_interface/SimpleTransmission</type>
		<joint name="lf_q2_joint">
			<hardwareInterface>hardware_interface/EffortJointInterface</hardwareInterface>
		</joint>
		<actuator name="lf_q2_motor">
			<hardwareInterface>EffortJointInterface</hardwareInterface>
			<mechanicalReduction>200</mechanicalReduction>
		</actuator>
	</transmission>
	<!-- Lower leg -->
	<transmission name="lf_q3_trans">
		<type>transmission_interface/SimpleTransmission</type>
		<joint name="lf_q3_joint">
			<hardwareInterface>hardware_interface/EffortJointInterface</hardwareInterface>
		</joint>
		<actuator name="lf_q3_motor">
			<hardwareInterface>EffortJointInterface</hardwareInterface>
			<mechanicalReduction>200</mechanicalReduction>
		</actuator>
	</transmission>
	<!-- END OF LEFT FRONT LEG TRANSMISSION -->



	<!-- START OF LEFT BACK LEG TRANSMISSION -->
    <!-- Hip assembly -->
	<transmission name="lr_q1_trans">
		<type>transmission_interface/SimpleTransmission</type>
		<joint name="lr_q1_joint">
			<hardwareInterface>hardware_interface/EffortJointInterface</hardwareInterface>
		</joint>
		<actuator name="lr_q1_motor">
			<hardwareInterface>EffortJointInterface</hardwareInterface>
			<mechanicalReduction>200</mechanicalReduction>
		</actuator>
	</transmission>
	<!-- Upper leg -->
	<transmission name="lr_q2_trans">
		<type>transmission_interface/SimpleTransmission</type>
		<joint name="lr_q2_joint">
			<hardwareInterface>hardware_interface/EffortJointInterface</hardwareInterface>
		</joint>
		<actuator name="lr_q2_motor">
			<hardwareInterface>EffortJointInterface</hardwareInterface>
			<mechanicalReduction>200</mechanicalReduction>
		</actuator>
	</transmission>
	<!-- Lower leg -->
	<transmission name="lr_q3_trans">
		<type>transmission_interface/SimpleTransmission</type>
		<joint name="lr_q3_joint">
			<hardwareInterface>hardware_interface/EffortJointInterface</hardwareInterface>
		</joint>
		<actuator name="lr_q3_motor">
			<hardwareInterface>EffortJointInterface</hardwareInterface>
			<mechanicalReduction>200</mechanicalReduction>
		</actuator>
	</transmission>
	<!-- END OF LEFT BACK LEG TRANSMISSION -->



	<!-- START OF LEFT MIDDLE LEG TRANSMISSION -->
	<!-- Hip assembly -->
		<transmission name="lm_q1_trans">
			<type>transmission_interface/SimpleTransmission</type>
			<joint name="lm_q1_joint">
				<hardwareInterface>hardware_interface/EffortJointInterface</hardwareInterface>
			</joint>
			<actuator name="lm_q1_motor">
				<hardwareInterface>EffortJointInterface</hardwareInterface>
				<mechanicalReduction>200</mechanicalReduction>
			</actuator>
		</transmission>
    	<!-- Upper leg -->
		<transmission name="lm_q2_trans">
			<type>transmission_interface/SimpleTransmission</type>
			<joint name="lm_q2_joint">
				<hardwareInterface>hardware_interface/EffortJointInterface</hardwareInterface>
			</joint>
			<actuator name="lm_q2_motor">
				<hardwareInterface>EffortJointInterface</hardwareInterface>
				<mechanicalReduction>200</mechanicalReduction>
			</actuator>
		</transmission>
    	<!-- Lower leg -->
		<transmission name="lm_q3_trans">
			<type>transmission_interface/SimpleTransmission</type>
			<joint name="lm_q3_joint">
				<hardwareInterface>hardware_interface/EffortJointInterface</hardwareInterface>
			</joint>
			<actuator name="lm_q3_motor">
				<hardwareInterface>EffortJointInterface</hardwareInterface>
				<mechanicalReduction>200</mechanicalReduction>
			</actuator>
		</transmission>
	<!-- END OF LEFT MIDDLE LEG TRANSMISSION -->



	<!-- START OF RIGHT FRONT LEG TRANSMISSION -->
    <!-- Hip assembly -->
	<transmission name="rf_q1_trans">
		<type>transmission_interface/SimpleTransmission</type>
		<joint name="rf_q1_joint">
			<hardwareInterface>hardware_interface/EffortJointInterface</hardwareInterface>
		</joint>
		<actuator name="rf_q1_motor">
			<hardwareInterface>EffortJointInterface</hardwareInterface>
			<mechanicalReduction>200</mechanicalReduction>
		</actuator>
	</transmission>
	<!-- Upper leg -->
	<transmission name="rf_q2_trans">
		<type>transmission_interface/SimpleTransmission</type>
		<joint name="rf_q2_joint">
			<hardwareInterface>hardware_interface/EffortJointInterface</hardwareInterface>
		</joint>
		<actuator name="rf_q2_motor">
			<hardwareInterface>EffortJointInterface</hardwareInterface>
			<mechanicalReduction>200</mechanicalReduction>
		</actuator>
	</transmission>
	<!-- Lower leg -->
	<transmission name="rf_q3_trans">
		<type>transmission_interface/SimpleTransmission</type>
		<joint name="rf_q3_joint">
			<hardwareInterface>hardware_interface/EffortJointInterface</hardwareInterface>
		</joint>
		<actuator name="rf_q3_motor">
			<hardwareInterface>EffortJointInterface</hardwareInterface>
			<mechanicalReduction>200</mechanicalReduction>
		</actuator>
	</transmission>
	<!-- END OF RIGHT FRONT LEG TRANSMISSION -->



	<!-- START OF RIGHT MIDDLE LEG TRANSMISSION -->
	<!-- Hip assembly -->
		<transmission name="rm_q1_trans">
			<type>transmission_interface/SimpleTransmission</type>
			<joint name="rm_q1_joint">
				<hardwareInterface>hardware_interface/EffortJointInterface</hardwareInterface>
			</joint>
			<actuator name="rm_q1_motor">
				<hardwareInterface>EffortJointInterface</hardwareInterface>
				<mechanicalReduction>200</mechanicalReduction>
			</actuator>
		</transmission>
    	<!-- Upper leg -->
		<transmission name="rm_q2_trans">
			<type>transmission_interface/SimpleTransmission</type>
			<joint name="rm_q2_joint">
				<hardwareInterface>hardware_interface/EffortJointInterface</hardwareInterface>
			</joint>
			<actuator name="rm_q2_motor">
				<hardwareInterface>EffortJointInterface</hardwareInterface>
				<mechanicalReduction>200</mechanicalReduction>
			</actuator>
		</transmission>
    	<!-- Lower leg -->
		<transmission name="rm_q3_trans">
			<type>transmission_interface/SimpleTransmission</type>
			<joint name="rm_q3_joint">
				<hardwareInterface>hardware_interface/EffortJointInterface</hardwareInterface>
			</joint>
			<actuator name="rm_q3_motor">
				<hardwareInterface>EffortJointInterface</hardwareInterface>
				<mechanicalReduction>200</mechanicalReduction>
			</actuator>
		</transmission>
	<!-- END OF RIGHT MIDDLE LEG TRANSMISSION -->



	<!-- START OF RIGHT BACK LEG TRANSMISSION -->
    <!-- Hip assembly -->
	<transmission name="rr_q1_trans">
		<type>transmission_interface/SimpleTransmission</type>
		<joint name="rr_q1_joint">
			<hardwareInterface>hardware_interface/EffortJointInterface</hardwareInterface>
		</joint>
		<actuator name="rr_q1_motor">
			<hardwareInterface>EffortJointInterface</hardwareInterface>
			<mechanicalReduction>200</mechanicalReduction>
		</actuator>
	</transmission>
	<!-- Upper leg -->
	<transmission name="rr_q2_trans">
		<type>transmission_interface/SimpleTransmission</type>
		<joint name="rr_q2_joint">
			<hardwareInterface>hardware_interface/EffortJointInterface</hardwareInterface>
		</joint>
		<actuator name="rr_q2_motor">
			<hardwareInterface>EffortJointInterface</hardwareInterface>
			<mechanicalReduction>200</mechanicalReduction>
		</actuator>
	</transmission>
	<!-- Lower leg -->
	<transmission name="rr_q3_trans">
		<type>transmission_interface/SimpleTransmission</type>
		<joint name="rr_q3_joint">
			<hardwareInterface>hardware_interface/EffortJointInterface</hardwareInterface>
		</joint>
		<actuator name="rr_q3_motor">
			<hardwareInterface>EffortJointInterface</hardwareInterface>
			<mechanicalReduction>200</mechanicalReduction>
		</actuator>
	</transmission>
	<!-- END OF RIGHT BACK LEG TRANSMISSION -->

</robot>
